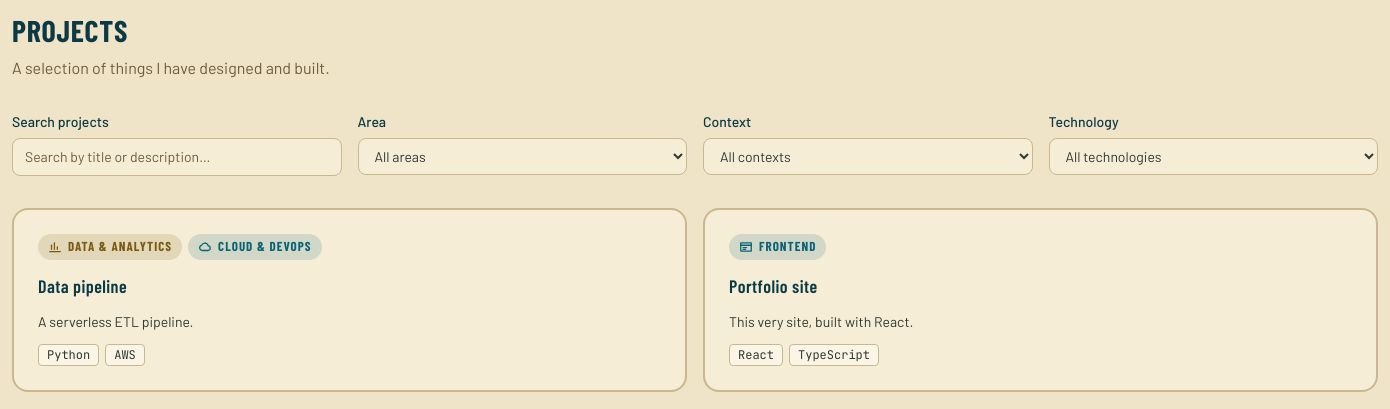
Projects › filters projects by context
The image size is (1390, 409).
Expected: the link "Data pipeline" is shown, [38, 275, 127, 297]
Select "Work" in the dropdown labelled "Context": (868, 156) [703, 138, 1032, 175]
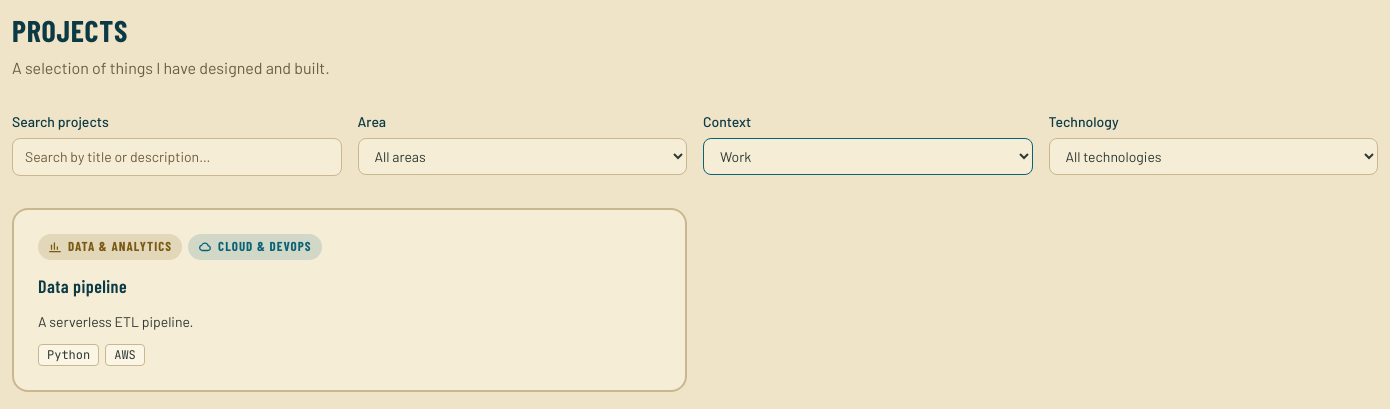
Expected: the link "Data pipeline" is shown, [38, 275, 127, 297]
Now the link "Portfolio site" is gone
